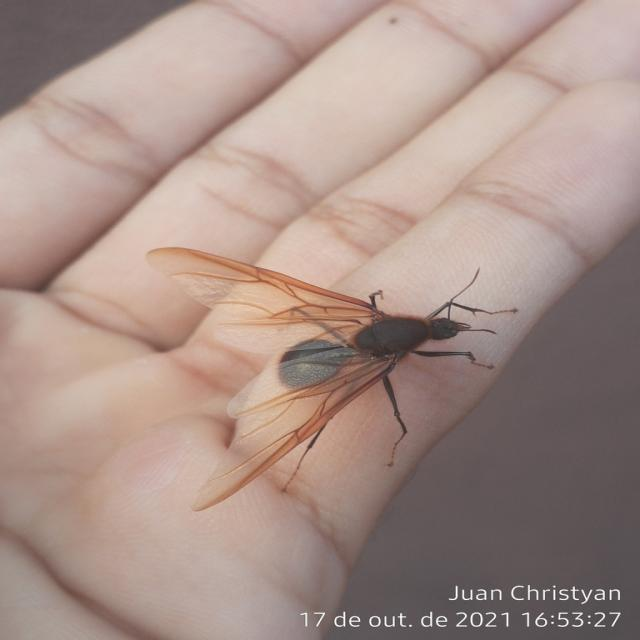Alive-Male-Alate: (144, 247, 519, 512)
